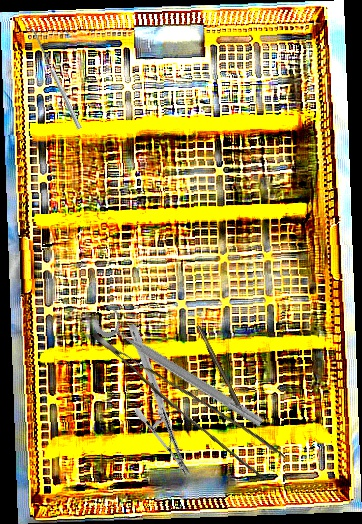Fixation Ring: (89, 301, 273, 432)
Hook Surgical: (195, 324, 248, 420)
Needle Holder: (78, 323, 241, 478)
Spatula Surgical: (25, 24, 82, 132)
Tissue Forceps: (92, 304, 287, 490)
